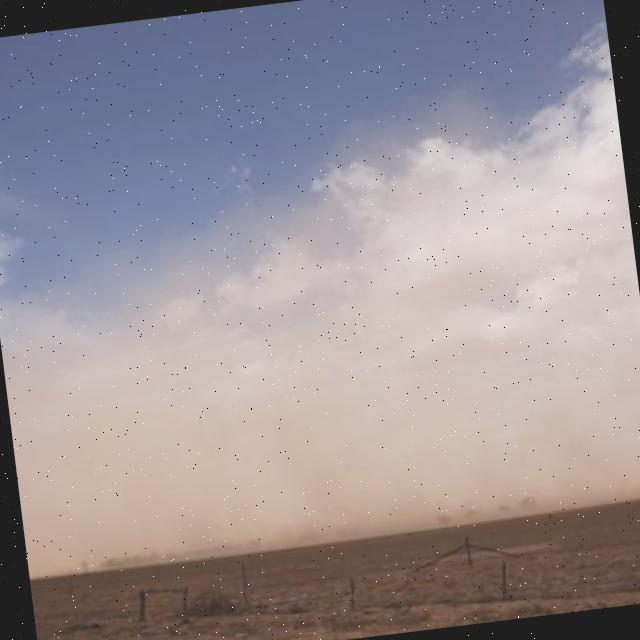Ci: (1, 1, 640, 529)
